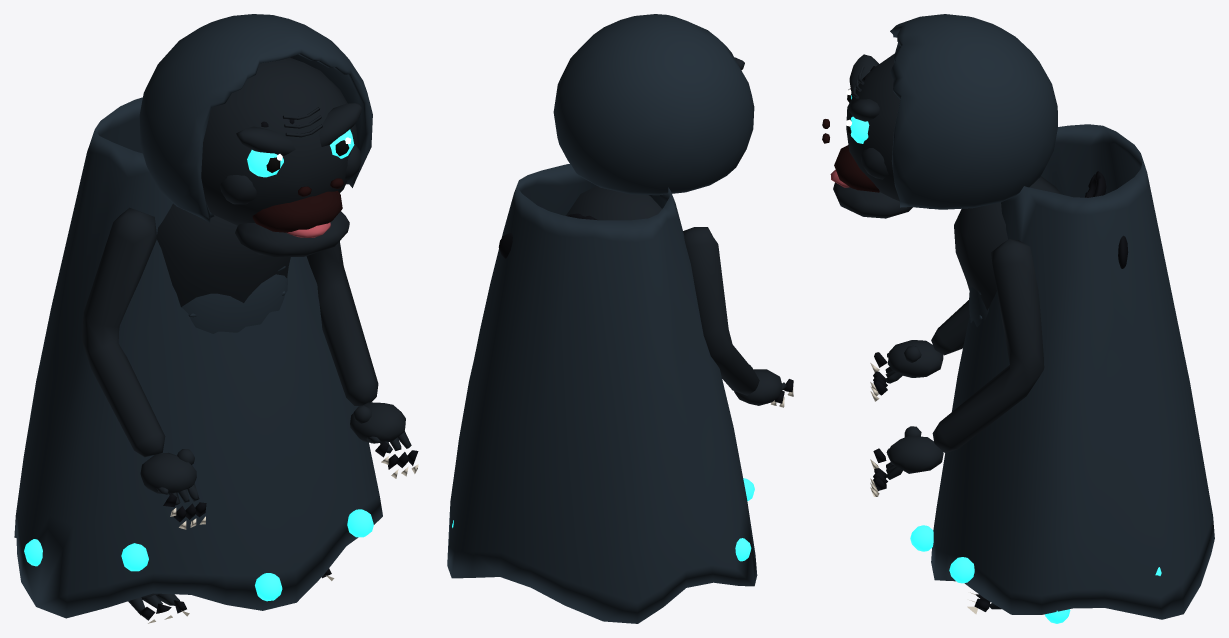
Rendered from skygge_1.glb.
3 renders of one model, left to right at view 1: azimuth 30°, elevation 25°; view 2: azimuth 150°, elevation 25°; view 3: azimuth 270°, elevation 25°, orthographic. The views are drawn at different scales.
Parts seen in each view (by area): view 1: krop_net, hoved_net, armH_net, armV_net, benH_net; view 2: krop_net, hoved_net, armH_net; view 3: krop_net, hoved_net, armV_net, armH_net.
Boxes of the visible parts, x1,y1,x2,y2 form: krop_net: [14, 97, 382, 618]; hoved_net: [139, 14, 372, 256]; armH_net: [81, 207, 206, 529]; armV_net: [306, 241, 418, 478]; benH_net: [128, 593, 189, 623]; krop_net: [447, 164, 757, 623]; hoved_net: [553, 14, 754, 195]; armH_net: [683, 227, 793, 407]; krop_net: [910, 124, 1214, 623]; hoved_net: [822, 14, 1057, 218]; armV_net: [870, 239, 1044, 496]; armH_net: [870, 300, 969, 401].
Size of the model in its own units: 1.14 by 1.87 by 1.21.
